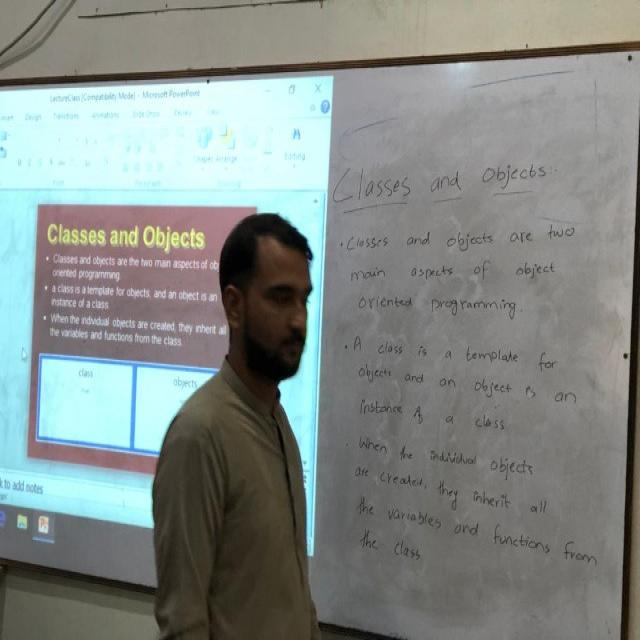Instructor: (162, 190, 339, 630)
Slide: (0, 76, 338, 585)
White-board: (0, 47, 640, 640)
